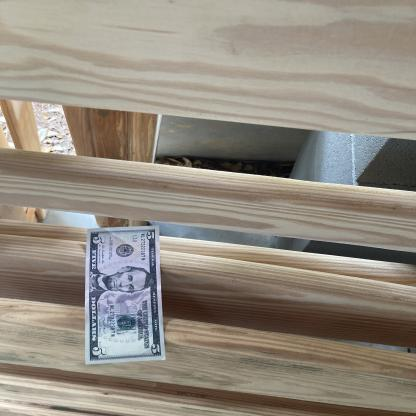five-front: (84, 224, 166, 365)
